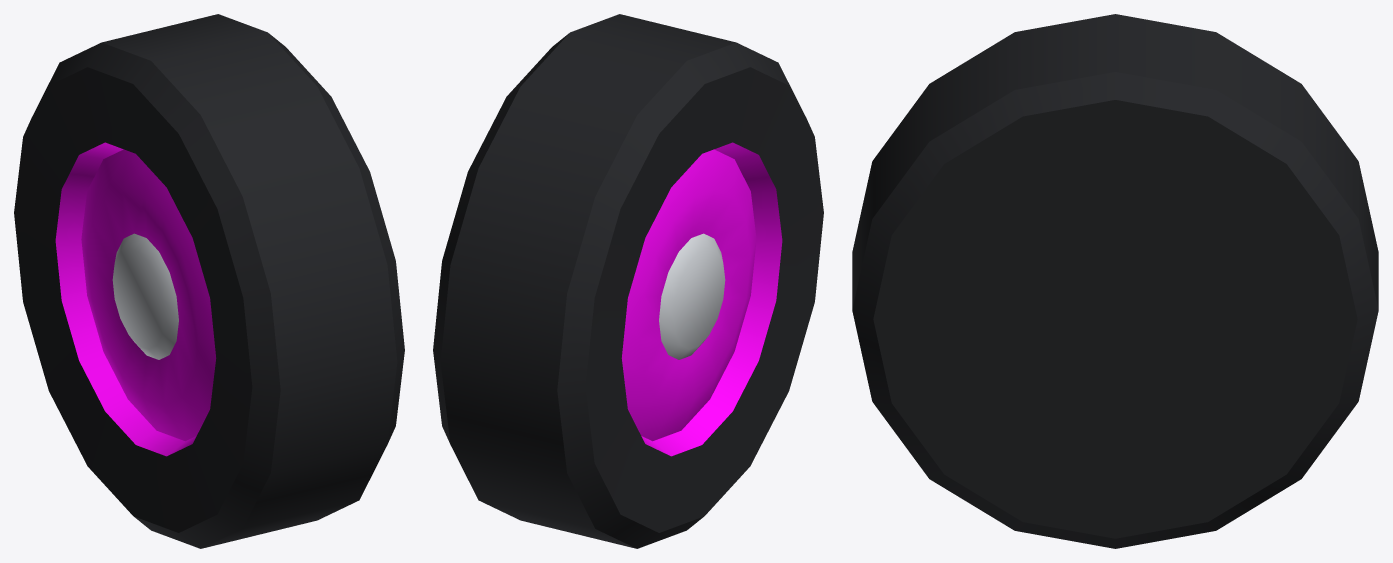
The model's file is rim_steel.glb.
3 views of the same model, side by side, from view 1: azimuth 30°, elevation 25°; view 2: azimuth 150°, elevation 25°; view 3: azimuth 270°, elevation 25° (orthographic).
Visible parts, largest first — view 1: rim_steel__mesh; view 2: rim_steel__mesh; view 3: rim_steel__mesh.
Part boxes in pixels (x1,y1,x2,y2): rim_steel__mesh: [14, 14, 404, 548]; rim_steel__mesh: [433, 14, 823, 548]; rim_steel__mesh: [852, 14, 1378, 548].
Size of the model in its own units: 0.34 by 1 by 1.
Materials: 1 (1 with a texture image).
